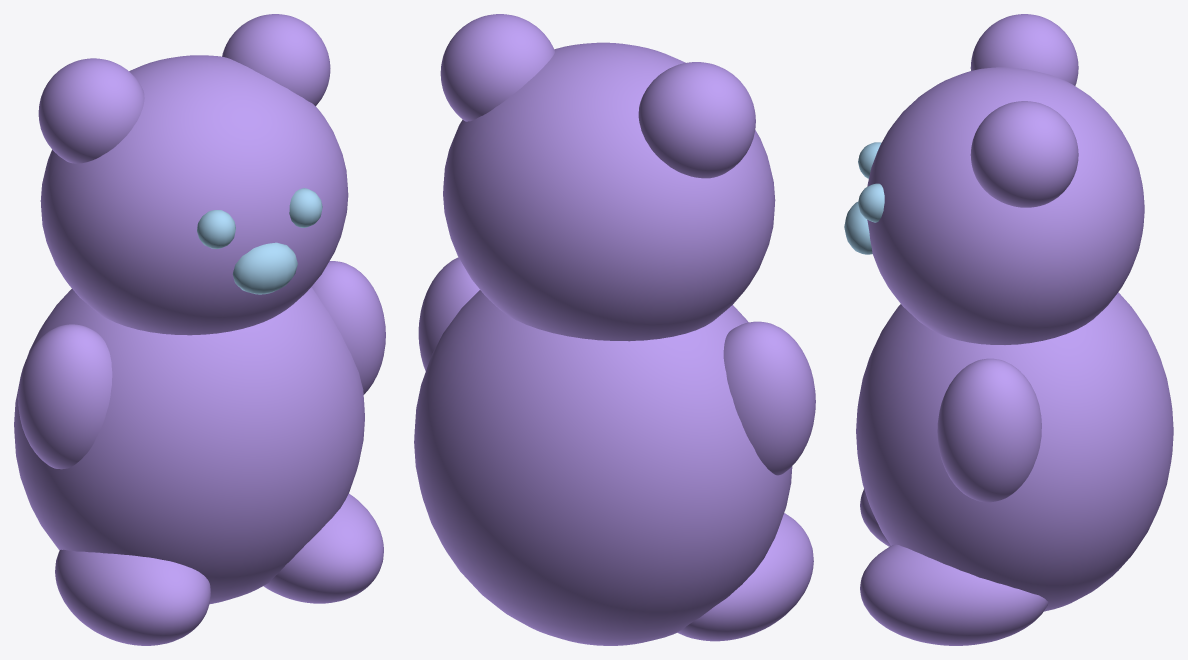
File: bear.glb
The picture shows the model from 3 angles, left to right: view 1: azimuth 30°, elevation 25°; view 2: azimuth 150°, elevation 25°; view 3: azimuth 270°, elevation 25°; orthographic projection. The views are drawn at different scales.
Parts seen in each view (by area): view 1: bear; view 2: bear; view 3: bear.
Part boxes in pixels (x1=…): bear: x1=14, y1=14, x2=385, y2=645; bear: x1=414, y1=14, x2=815, y2=645; bear: x1=844, y1=14, x2=1173, y2=645.
Size of the model in its own units: 0.816 by 1.21 by 0.672.
